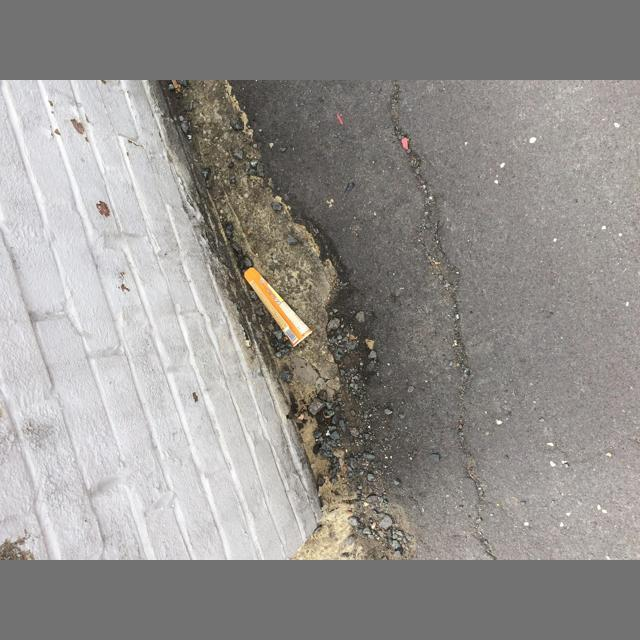litter: (244, 267, 313, 347)
